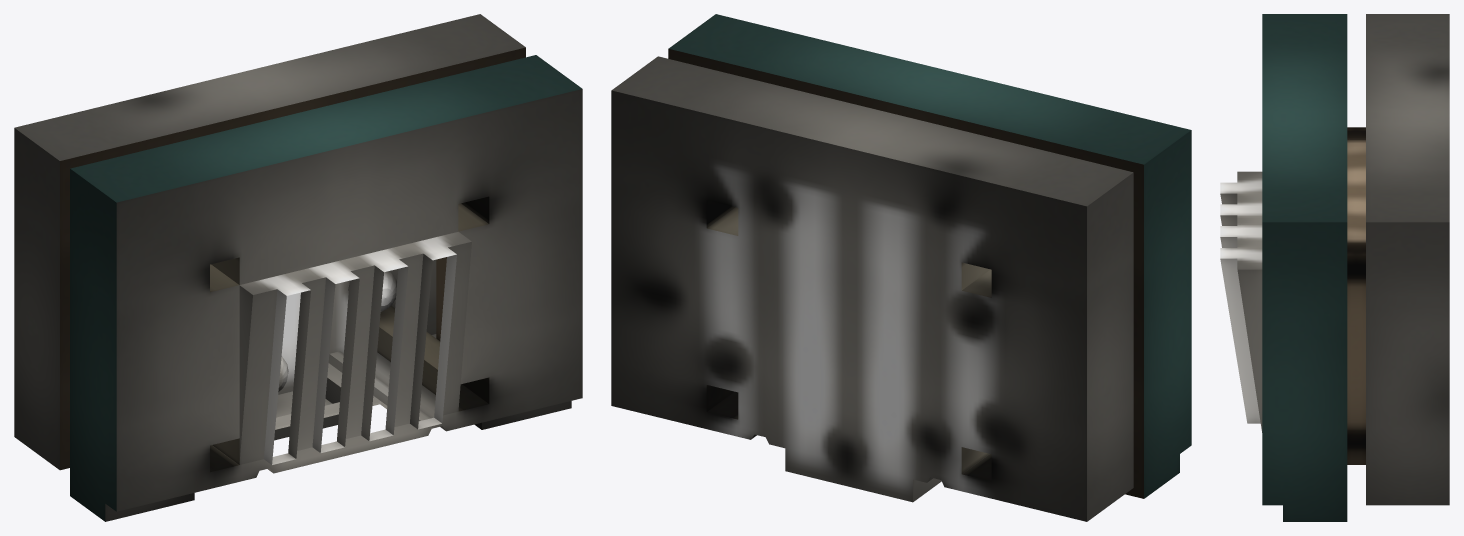
3 views of the same model, side by side, from view 1: azimuth 30°, elevation 25°; view 2: azimuth 150°, elevation 25°; view 3: azimuth 270°, elevation 25° (orthographic). The views are drawn at different scales.
Parts seen in each view (by area): view 1: house_Cube.000; view 2: house_Cube.000; view 3: house_Cube.000.
Part boxes in pixels (bbox=[...]): house_Cube.000: bbox=[14, 14, 582, 521]; house_Cube.000: bbox=[611, 14, 1191, 521]; house_Cube.000: bbox=[1220, 14, 1449, 521].
Bounding box in the file's own units: 21.49 × 14.61 × 10.01.
2 materials, 2 textured.
